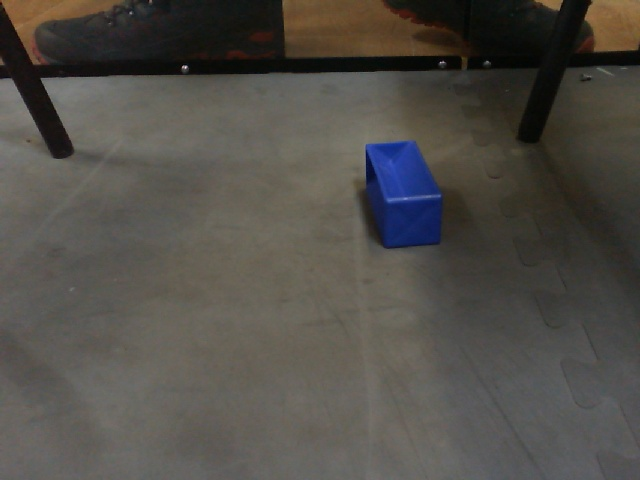BlueSample: (359, 136, 449, 256)
